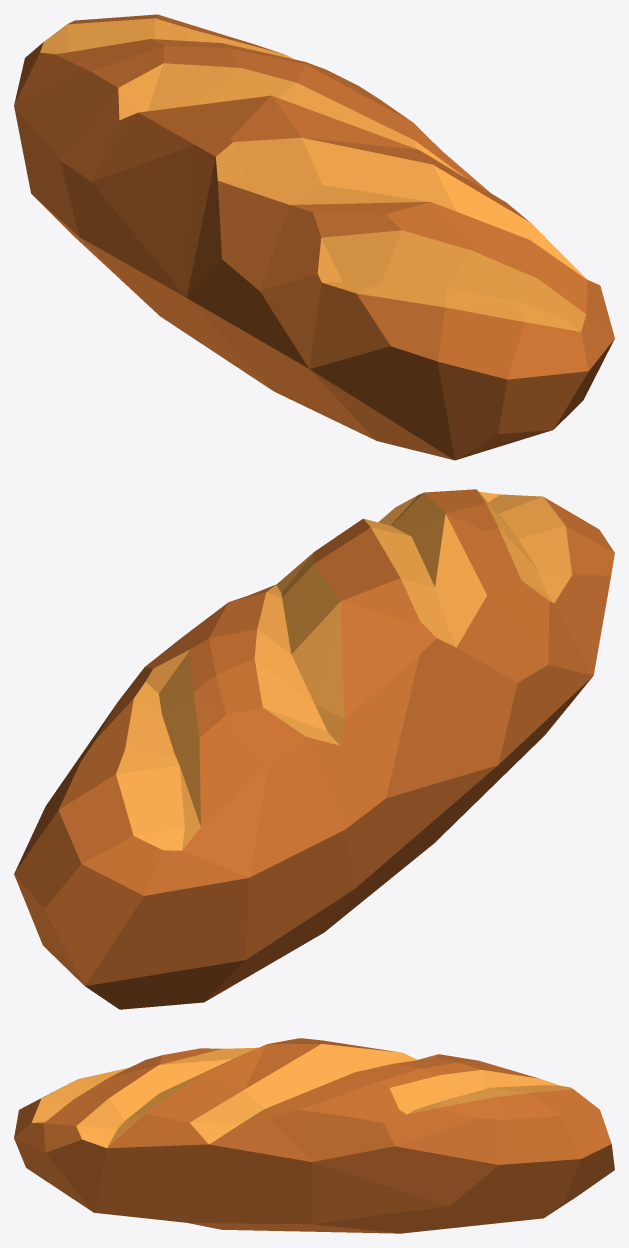
File: bread 1.obj
3 views of the same model, one above another, from view 1: azimuth 30°, elevation 25°; view 2: azimuth 150°, elevation 25°; view 3: azimuth 270°, elevation 25° (orthographic). The views are drawn at different scales.
Visible parts, largest first — view 1: retop; view 2: retop; view 3: retop.
Part boxes in pixels (x1,y1,x2,y2): retop: [14, 14, 614, 460]; retop: [14, 489, 614, 1009]; retop: [14, 1038, 614, 1233].
Bounding box in the file's own units: 1.82 × 1.7 × 5.44.
